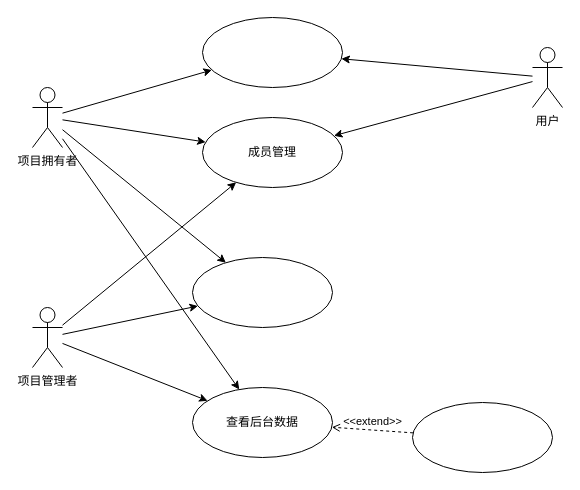
The diagram is 580 pixels wide and 490 high, and some of its shapes have lost their labels. Here are the shapes that lost their labels. From the top down, the centre of each, then its label:
(272,52): 权限管理
(262,292): 项目信息管理
(482,437): 导出数据
